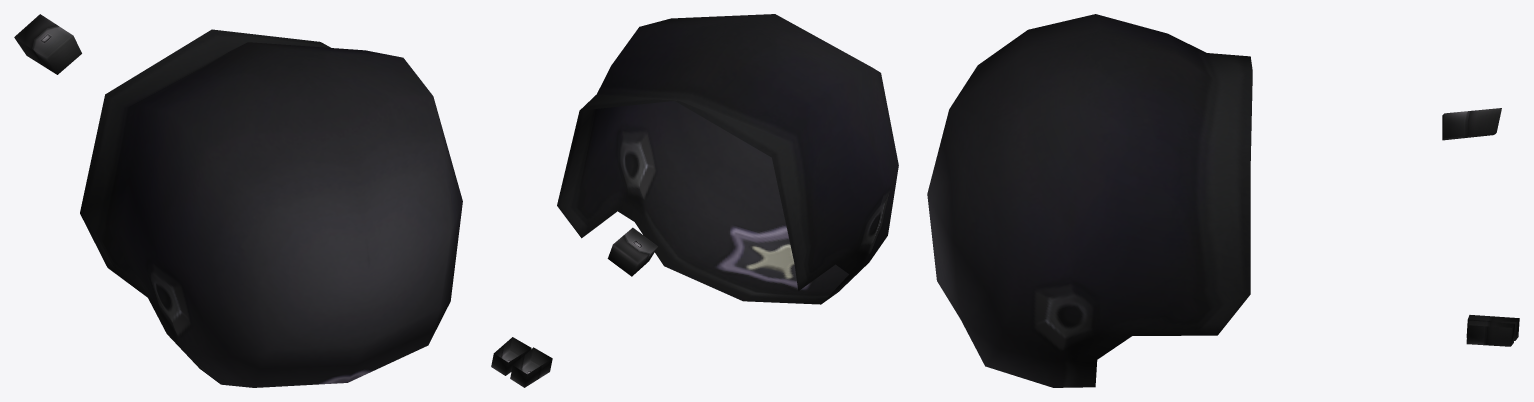
The model's file is Avatar_Swat_H_01_5_d6c76e29__Avatar_Swat_A_01_dcc48570_c1f257.obj.
The picture shows the model from 3 angles, left to right: view 1: azimuth 30°, elevation 25°; view 2: azimuth 150°, elevation 25°; view 3: azimuth 270°, elevation 25°; orthographic projection. The views are drawn at different scales.
Bounding box in the file's own units: 0.8937 × 0.8948 × 1.48.
Materials: 1 (1 with a texture image).
